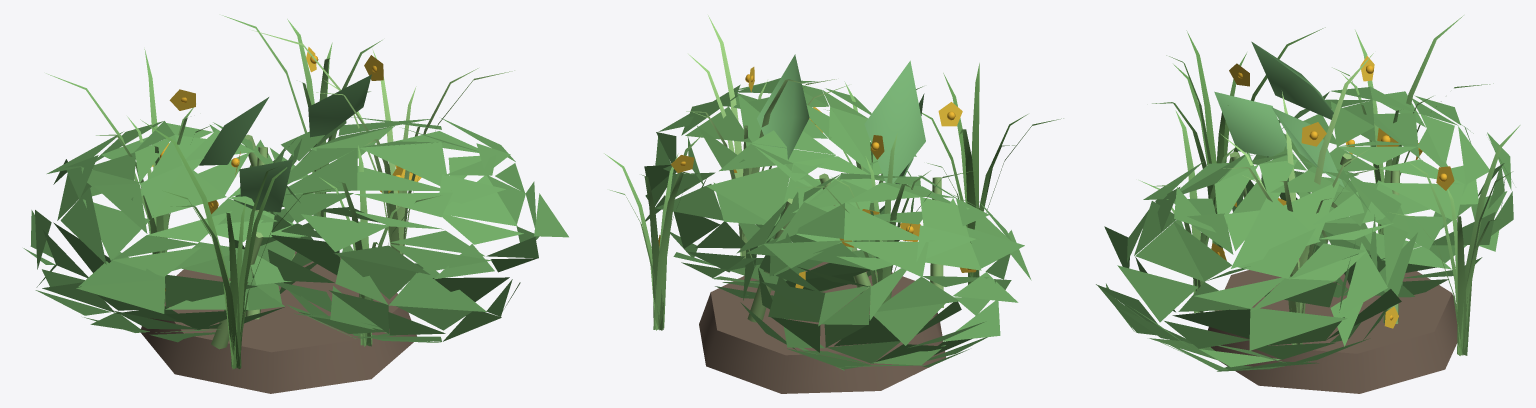
The model's file is south_indian_village_vegetation_cluster.glb.
3 renders of one model, left to right at view 1: azimuth 30°, elevation 25°; view 2: azimuth 150°, elevation 25°; view 3: azimuth 270°, elevation 25°, orthographic. The views are drawn at different scales.
Visible parts, largest first — view 1: Cluster_Faceted_Bush_Masses, Vegetation_Anti_Float_Root_Plug, Grass_Tuft_4, Broadleaf_Shoot_3, Grass_Tuft_1, Broadleaf_Shoot_2, Broadleaf_Shoot_1, Grass_Tuft_2, Grass_Tuft_3, Grass_Tuft_5; view 2: Cluster_Faceted_Bush_Masses, Vegetation_Anti_Float_Root_Plug, Broadleaf_Shoot_1, Grass_Tuft_3, Broadleaf_Shoot_2, Grass_Tuft_4, Grass_Tuft_1, Grass_Tuft_2, Broadleaf_Shoot_3, Wildflower_10; view 3: Cluster_Faceted_Bush_Masses, Vegetation_Anti_Float_Root_Plug, Grass_Tuft_3, Broadleaf_Shoot_3, Grass_Tuft_4, Broadleaf_Shoot_1, Grass_Tuft_1, Broadleaf_Shoot_2, Grass_Tuft_2, Grass_Tuft_5, Wildflower_7.
Boxes of the visible parts, <box> form: Cluster_Faceted_Bush_Masses: <box>23,117,568,342</box>; Vegetation_Anti_Float_Root_Plug: <box>141,251,416,393</box>; Grass_Tuft_4: <box>140,119,337,369</box>; Broadleaf_Shoot_3: <box>211,159,292,349</box>; Grass_Tuft_1: <box>252,30,514,289</box>; Broadleaf_Shoot_2: <box>244,74,371,258</box>; Broadleaf_Shoot_1: <box>199,97,268,319</box>; Grass_Tuft_2: <box>46,49,211,303</box>; Grass_Tuft_3: <box>222,15,382,217</box>; Grass_Tuft_5: <box>319,145,440,346</box>; Cluster_Faceted_Bush_Masses: <box>644,78,1031,370</box>; Vegetation_Anti_Float_Root_Plug: <box>699,262,945,393</box>; Broadleaf_Shoot_1: <box>819,60,925,310</box>; Grass_Tuft_3: <box>604,135,701,330</box>; Broadleaf_Shoot_2: <box>747,54,809,322</box>; Grass_Tuft_4: <box>922,63,1063,284</box>; Grass_Tuft_1: <box>686,15,848,259</box>; Grass_Tuft_2: <box>796,133,972,304</box>; Broadleaf_Shoot_3: <box>895,93,943,307</box>; Wildflower_10: <box>938,102,962,126</box>; Cluster_Faceted_Bush_Masses: <box>1096,86,1513,371</box>; Vegetation_Anti_Float_Root_Plug: <box>1208,257,1457,393</box>; Grass_Tuft_3: <box>1390,125,1520,355</box>; Broadleaf_Shoot_3: <box>1214,91,1287,197</box>; Grass_Tuft_4: <box>1152,27,1325,248</box>; Broadleaf_Shoot_1: <box>1251,41,1351,243</box>; Grass_Tuft_1: <box>1221,53,1383,344</box>; Broadleaf_Shoot_2: <box>1271,107,1399,323</box>; Grass_Tuft_2: <box>1332,15,1493,258</box>; Grass_Tuft_5: <box>1139,110,1254,312</box>; Wildflower_7: <box>1301,122,1326,146</box>.
Size of the model in its own units: 1.56 by 0.9725 by 1.33.
